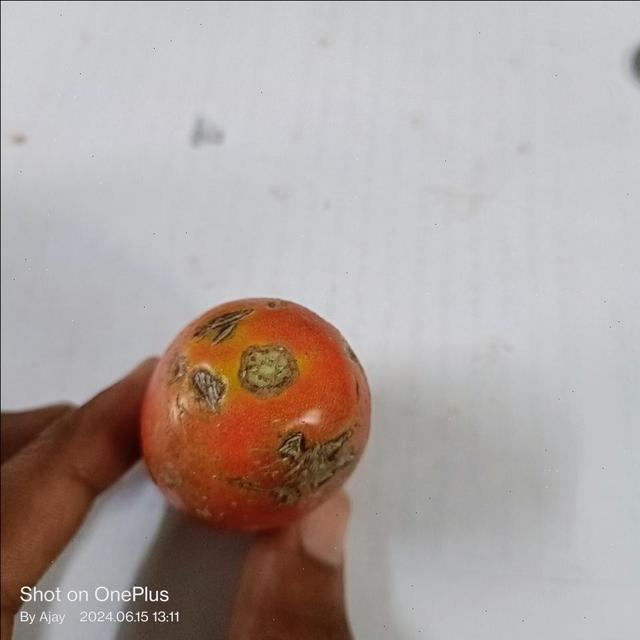Bacterial Spot Fruit: (25, 28, 200, 309)
